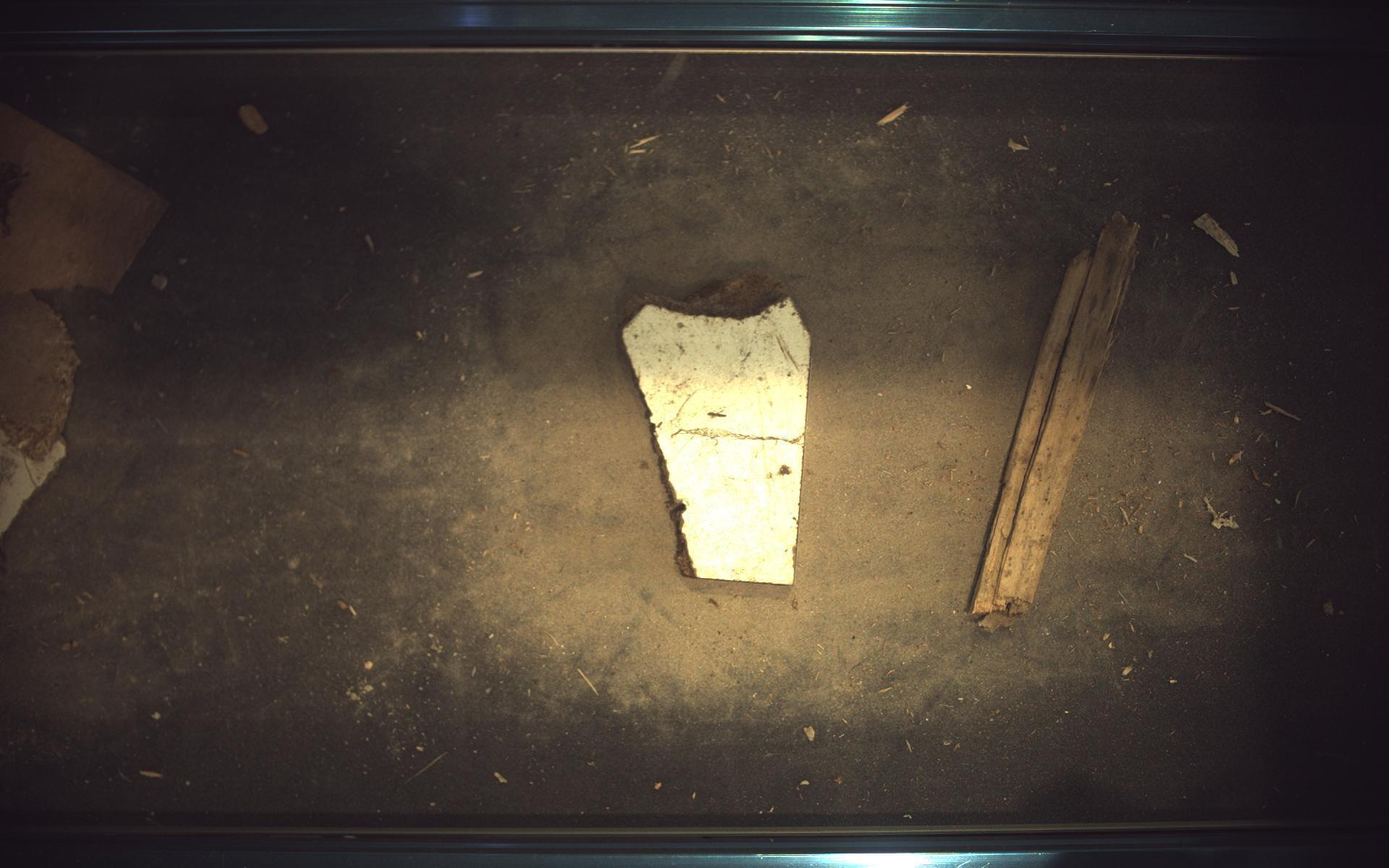wood: (972, 213, 1141, 616), (623, 272, 812, 585)
